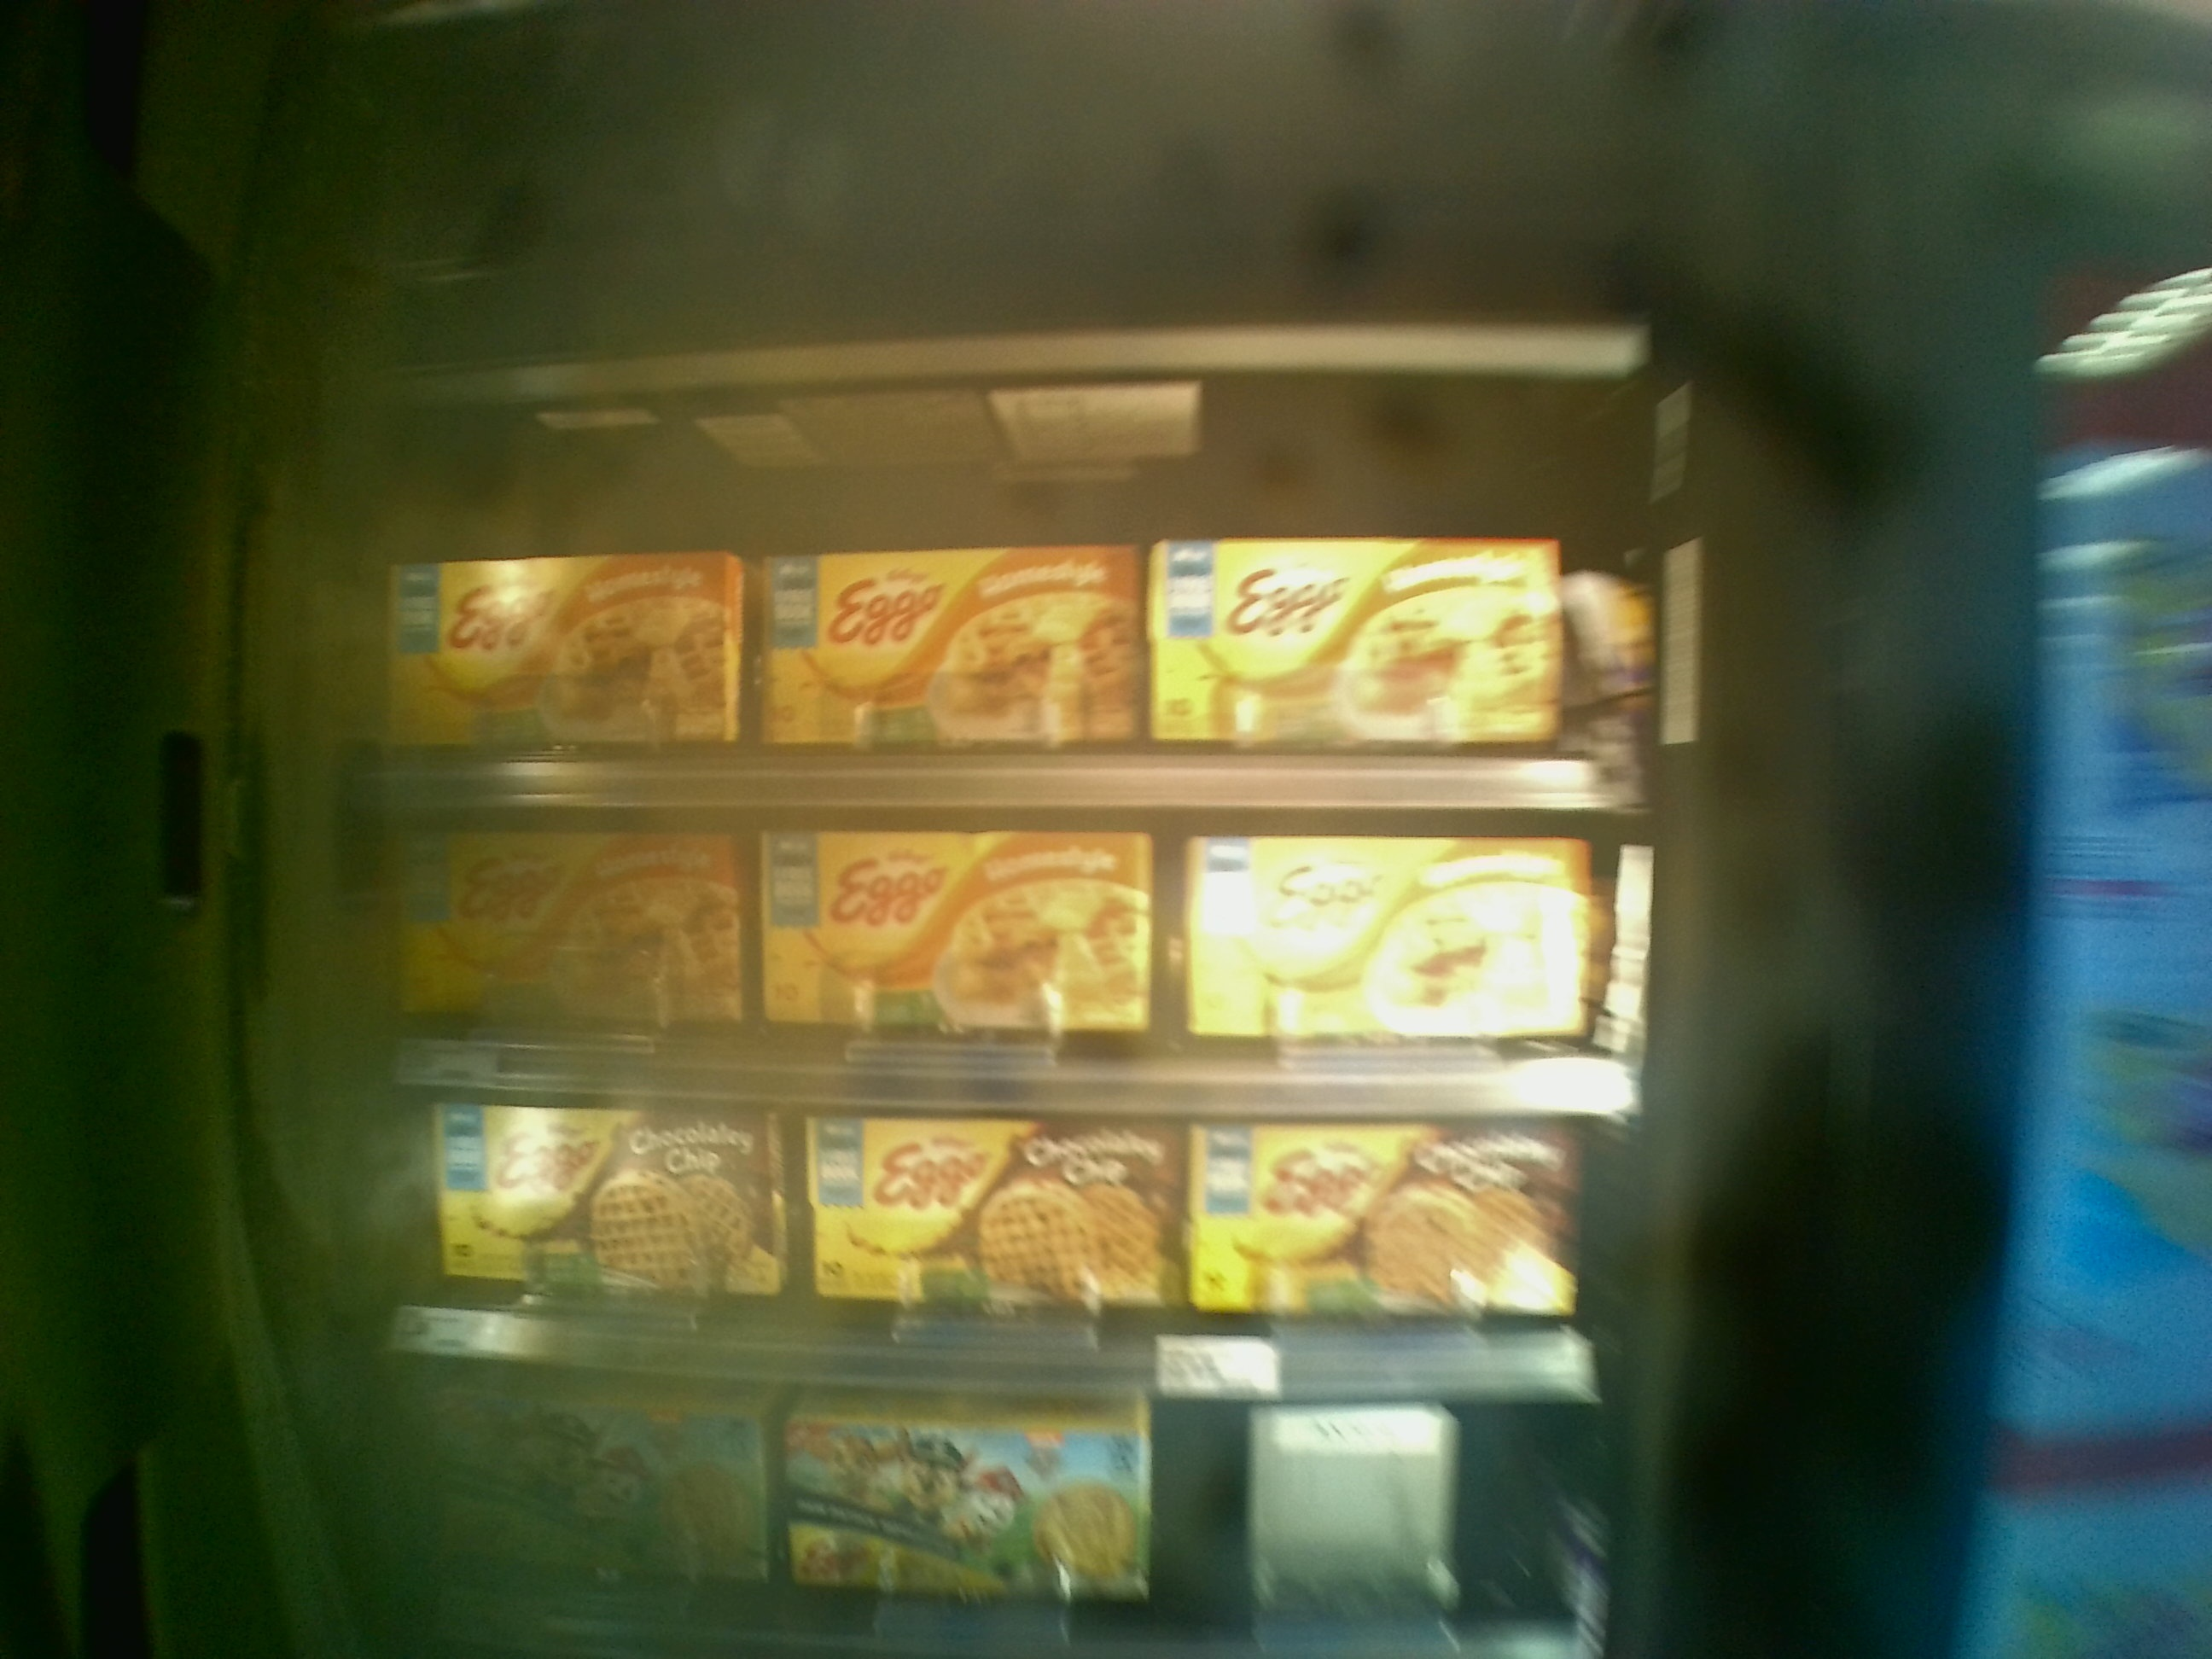shelf: (355, 340, 1630, 814)
